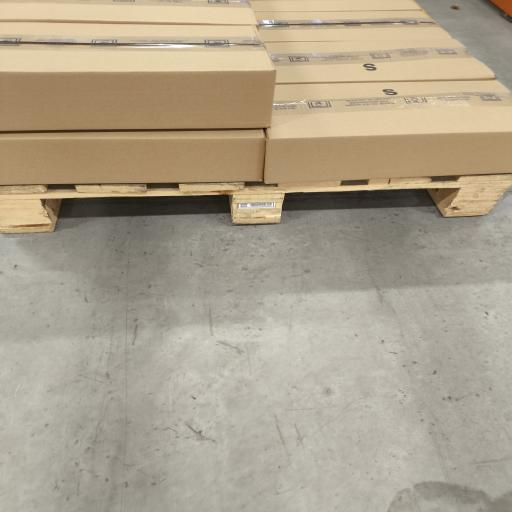pallet: (0, 174, 511, 233)
